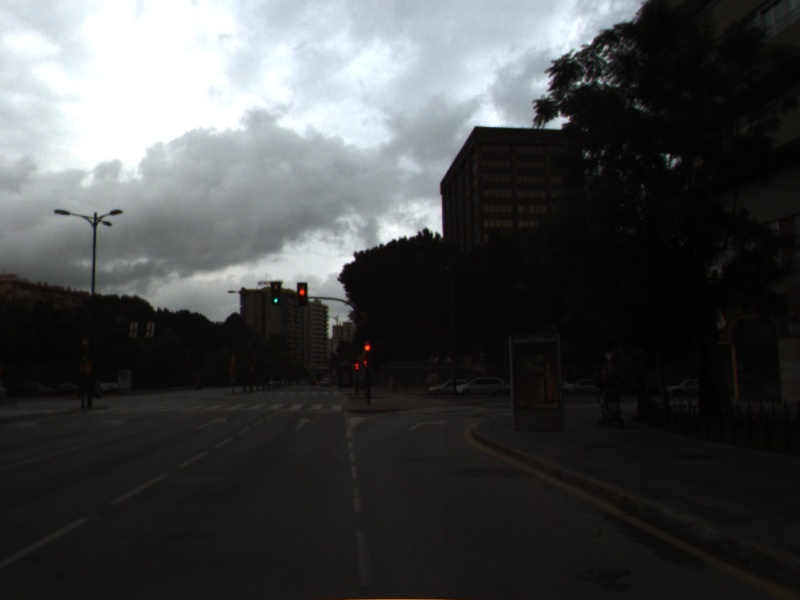RIGHT: (405, 417, 451, 433)
STRAIGHT: (194, 414, 230, 432), (290, 415, 316, 432)
